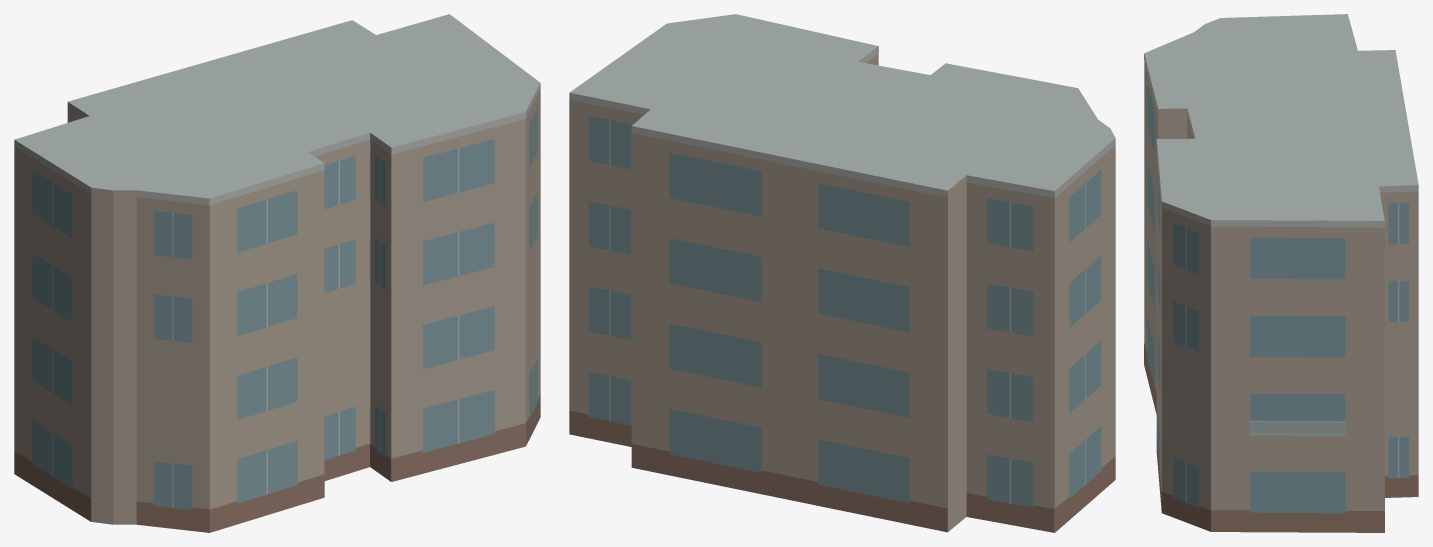
The model's file is survey-upis-32639400.glb.
The picture shows the model from 3 angles, left to right: view 1: azimuth 30°, elevation 25°; view 2: azimuth 150°, elevation 25°; view 3: azimuth 270°, elevation 25°; orthographic projection. The views are drawn at different scales.
Visible parts, largest first — view 1: survey-upis-32639400.tmp; view 2: survey-upis-32639400.tmp; view 3: survey-upis-32639400.tmp.
Boxes of the visible parts, x1,y1,x2,y2 form: survey-upis-32639400.tmp: [14, 14, 540, 532]; survey-upis-32639400.tmp: [569, 14, 1115, 532]; survey-upis-32639400.tmp: [1144, 14, 1418, 532].
Size of the model in its own units: 16.91 by 11.85 by 9.47.
